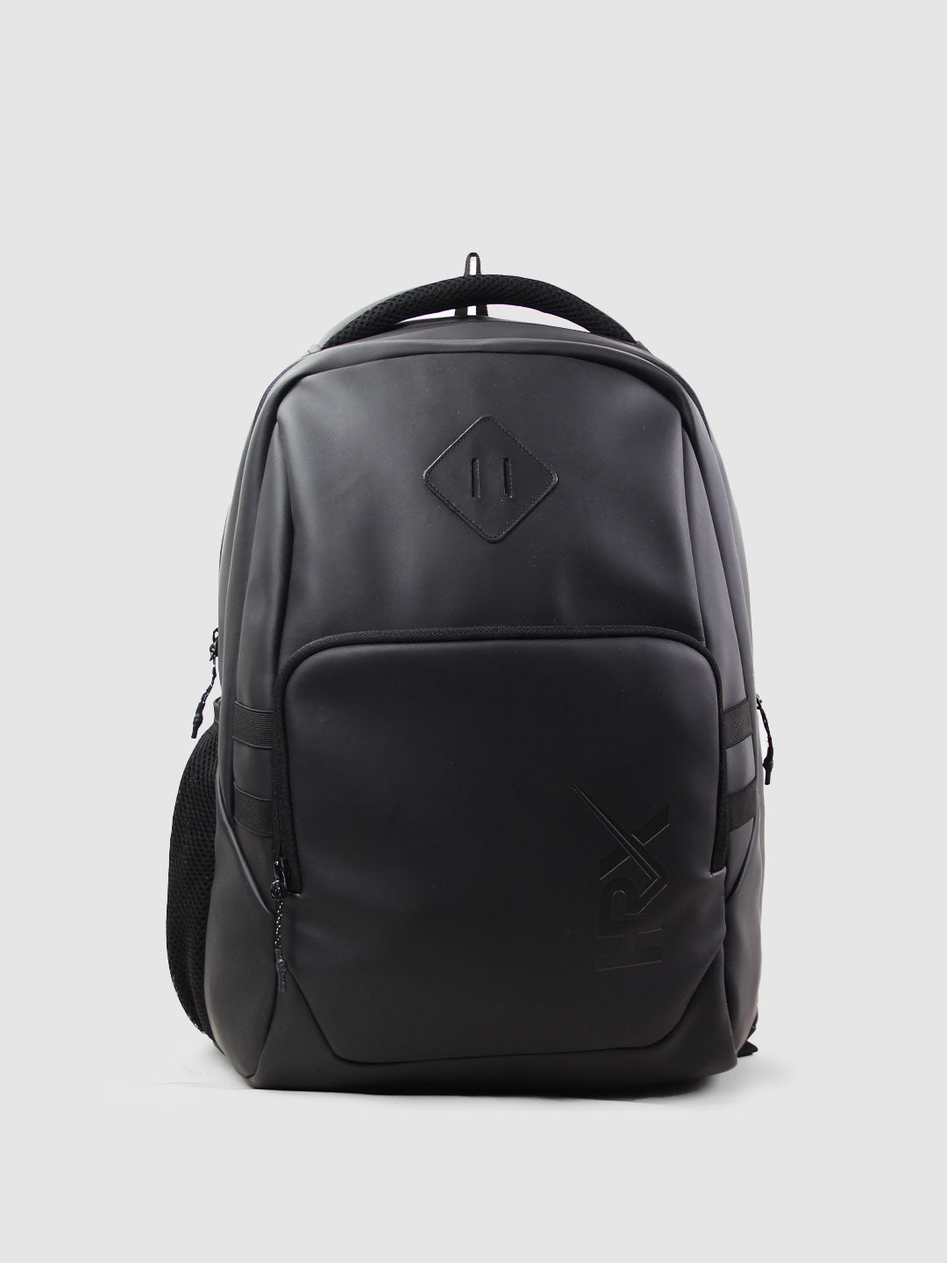backpack: (165, 251, 774, 1095)
